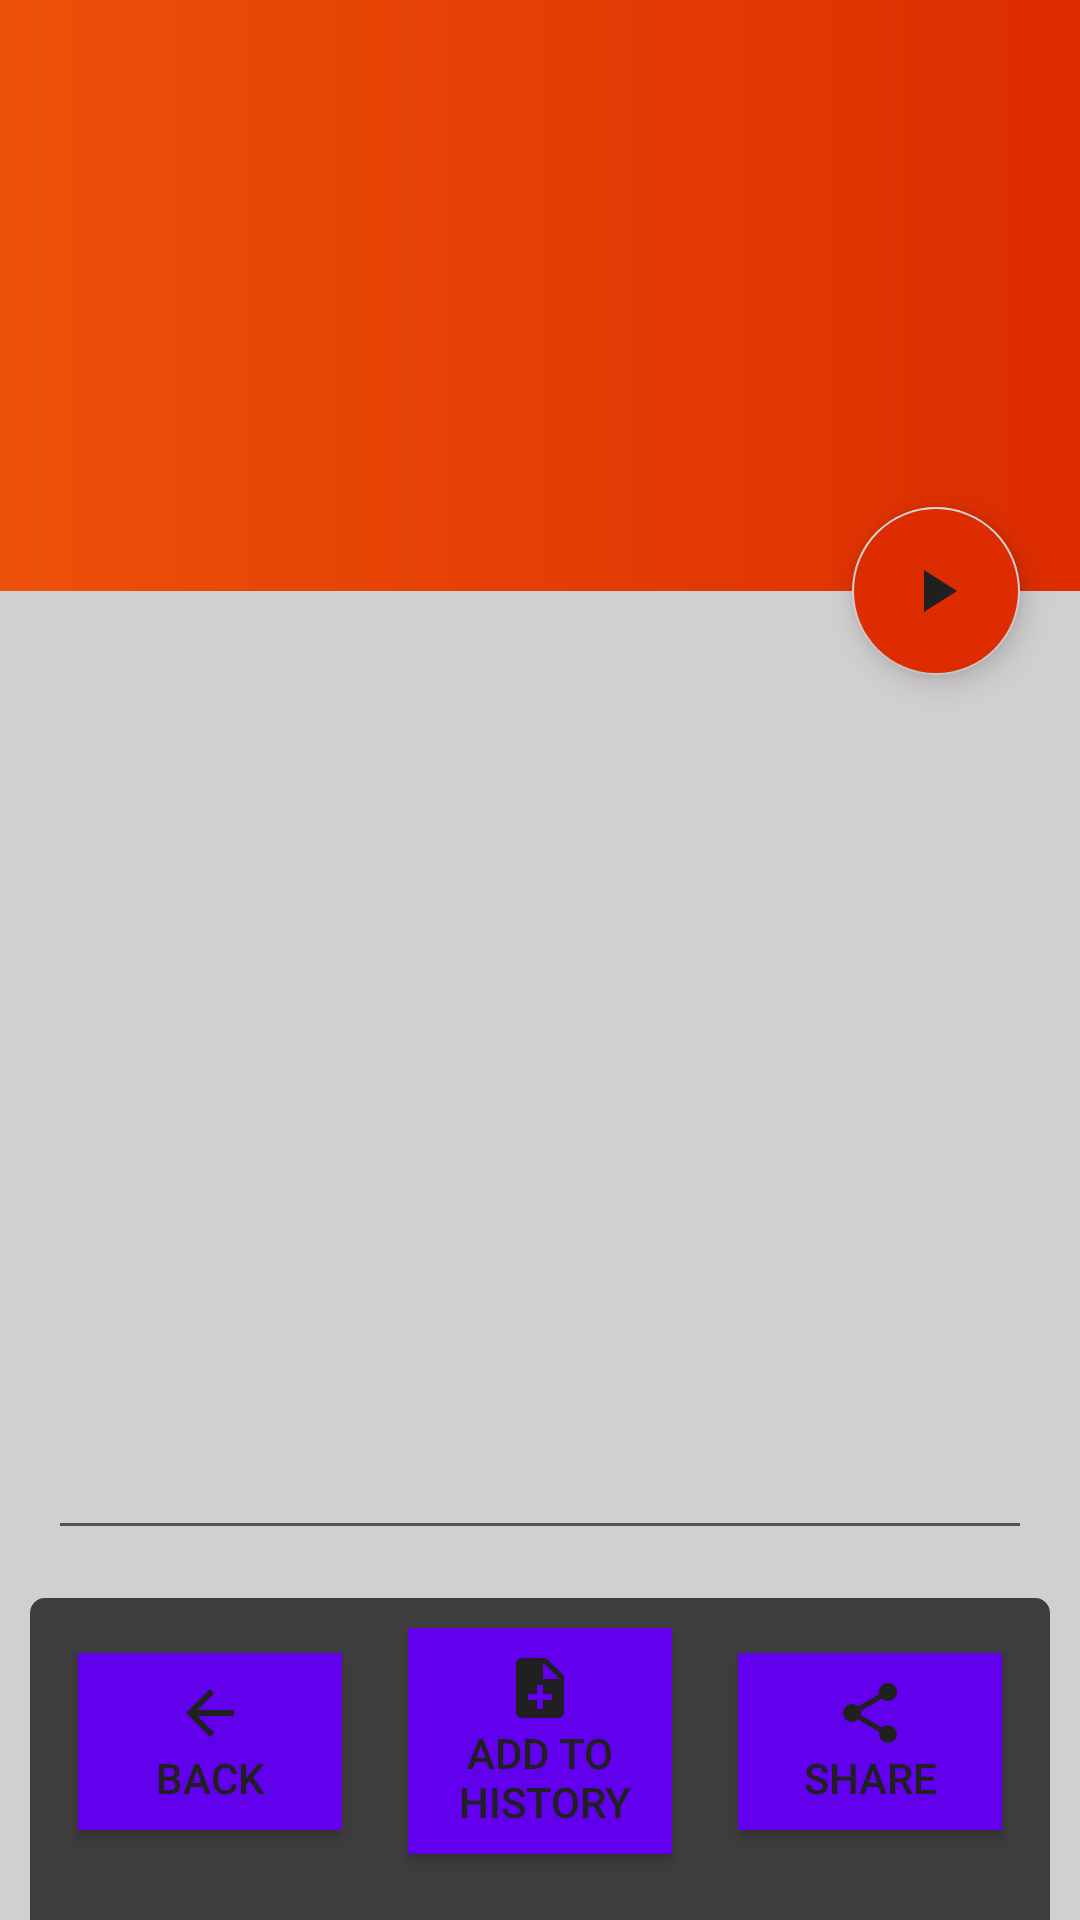

Point at icon controls on the screen. Image size 1080 × 1920, points as (x,y).
play arrow: (936,591)
